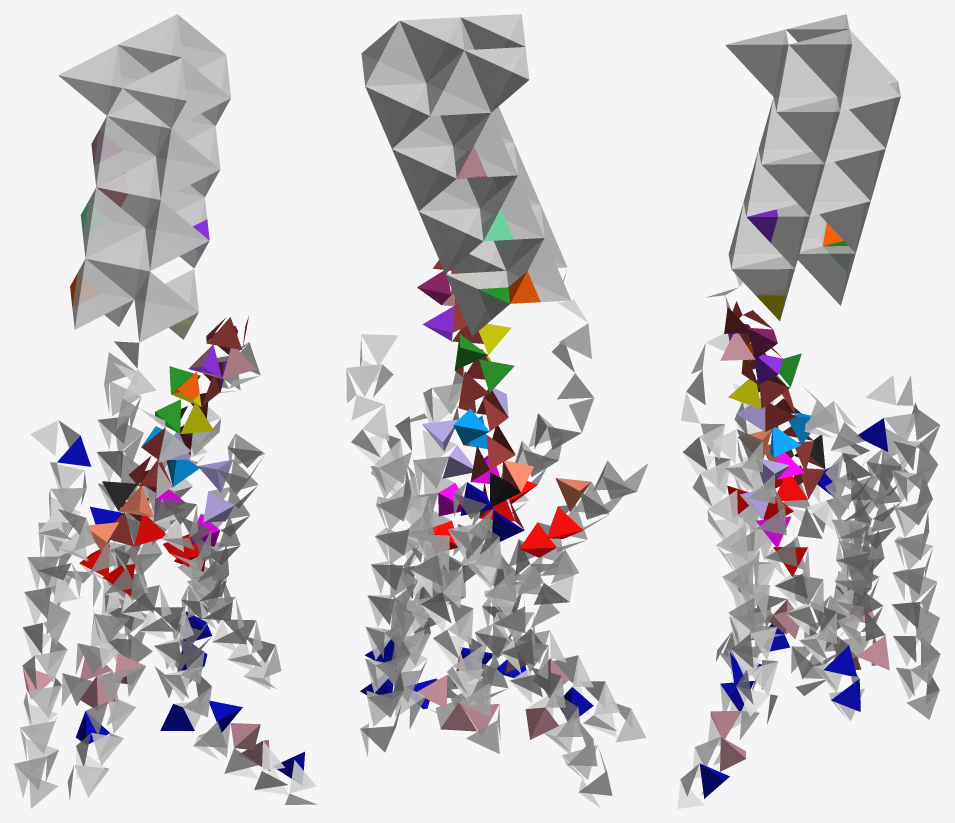
Rendered from CON_5VAI GLP1 GLP1R complex_exportFBX_ Exploded Axon_09282021_v1.fbx.
3 renders of one model, left to right at view 1: azimuth 30°, elevation 25°; view 2: azimuth 150°, elevation 25°; view 3: azimuth 270°, elevation 25°, orthographic. The views are drawn at different scales.
Visible parts, largest first — view 1: Tetrahedron_138, Tetrahedron_128, Tetrahedron_129, Tetrahedron_139, Tetrahedron_147, Tetrahedron_152, Tetrahedron_130, Tetrahedron_146, Tetrahedron_131, Tetrahedron_137, Tetrahedron_144, Tetrahedron_132 (+25 smaller); view 2: Tetrahedron_145, Tetrahedron_133, Tetrahedron_144, Tetrahedron_150, Tetrahedron_129, Tetrahedron_143, Tetrahedron_140, Tetrahedron_149, Tetrahedron_130, Tetrahedron_131, Tetrahedron_146, Tetrahedron_128 (+32 smaller); view 3: Tetrahedron_145, Tetrahedron_128, Tetrahedron_141, Tetrahedron_144, Tetrahedron_142, Tetrahedron_135, Tetrahedron_149, Tetrahedron_148, Tetrahedron_134, Tetrahedron_136, Tetrahedron_152, Tetrahedron_139 (+34 smaller).
Boxes of the visible parts, x1,y1,x2,y2 form: Tetrahedron_138: (145,200,209,271); Tetrahedron_128: (123,57,186,128); Tetrahedron_129: (58,45,122,115); Tetrahedron_139: (156,129,219,199); Tetrahedron_147: (85,228,149,298); Tetrahedron_152: (134,271,198,342); Tetrahedron_130: (83,187,144,258); Tetrahedron_146: (72,259,133,329); Tetrahedron_131: (94,116,155,186); Tetrahedron_137: (96,157,160,227); Tetrahedron_144: (118,14,181,72); Tetrahedron_132: (107,100,170,156); Tetrahedron_145: (361,21,425,86); Tetrahedron_133: (392,145,456,211); Tetrahedron_144: (400,17,464,82); Tetrahedron_150: (419,208,483,273); Tetrahedron_129: (464,47,529,112); Tetrahedron_143: (365,83,429,148); Tetrahedron_140: (426,50,490,115); Tetrahedron_149: (445,271,509,336); Tetrahedron_130: (479,175,544,240); Tetrahedron_131: (453,113,517,178); Tetrahedron_146: (506,238,571,302); Tetrahedron_128: (461,14,525,49); Tetrahedron_145: (837,44,900,111); Tetrahedron_128: (725,29,788,96); Tetrahedron_141: (773,45,836,111); Tetrahedron_144: (789,29,852,96); Tetrahedron_142: (776,97,839,163); Tetrahedron_135: (761,151,824,215); Tetrahedron_149: (797,246,855,305); Tetrahedron_148: (731,256,794,319); Tetrahedron_134: (810,162,870,216); Tetrahedron_136: (825,109,885,163); Tetrahedron_152: (728,202,782,269); Tetrahedron_139: (758,97,812,164).
Bounding box in the file's own units: 44.24 × 40.77 × 127.
